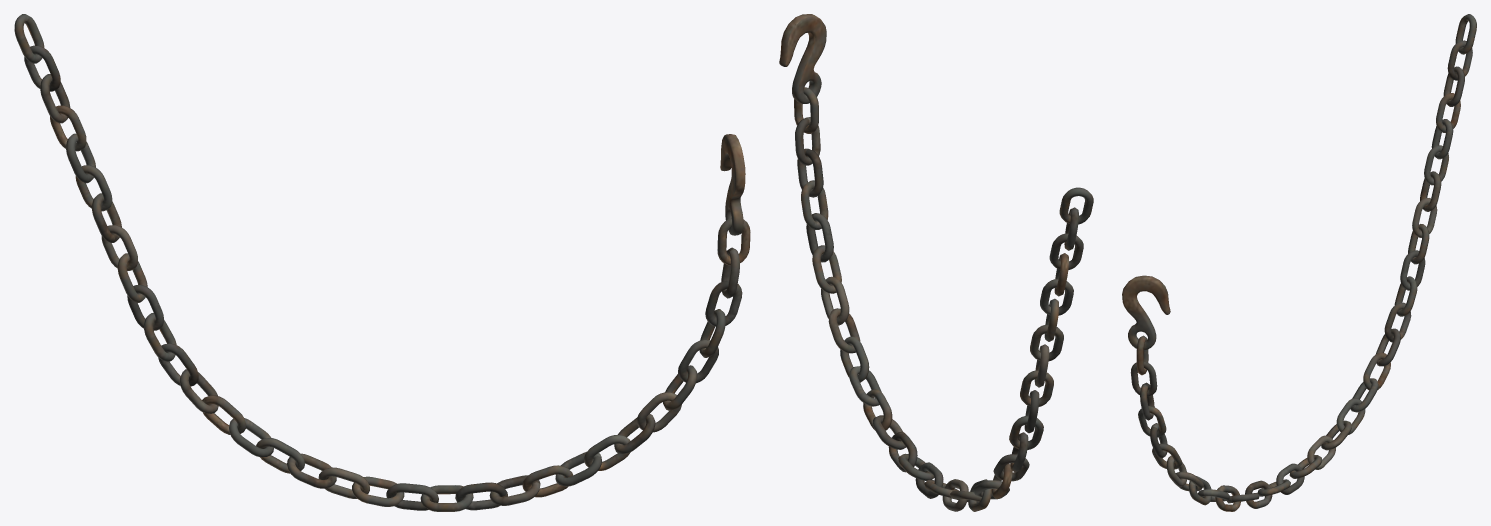
Rendered from prop_medium_003.glb.
The picture shows the model from 3 angles, left to right: view 1: azimuth 30°, elevation 25°; view 2: azimuth 150°, elevation 25°; view 3: azimuth 270°, elevation 25°; orthographic projection. The views are drawn at different scales.
Parts seen in each view (by area): view 1: Building_12_020; view 2: Building_12_020; view 3: Building_12_020.
Boxes of the visible parts, x1,y1,x2,y2 form: Building_12_020: (14, 14, 750, 511); Building_12_020: (779, 14, 1093, 511); Building_12_020: (1122, 14, 1476, 511).
Size of the model in its own units: 1.2 by 1.04 by 0.9033.
Materials: 1 (1 with a texture image).
